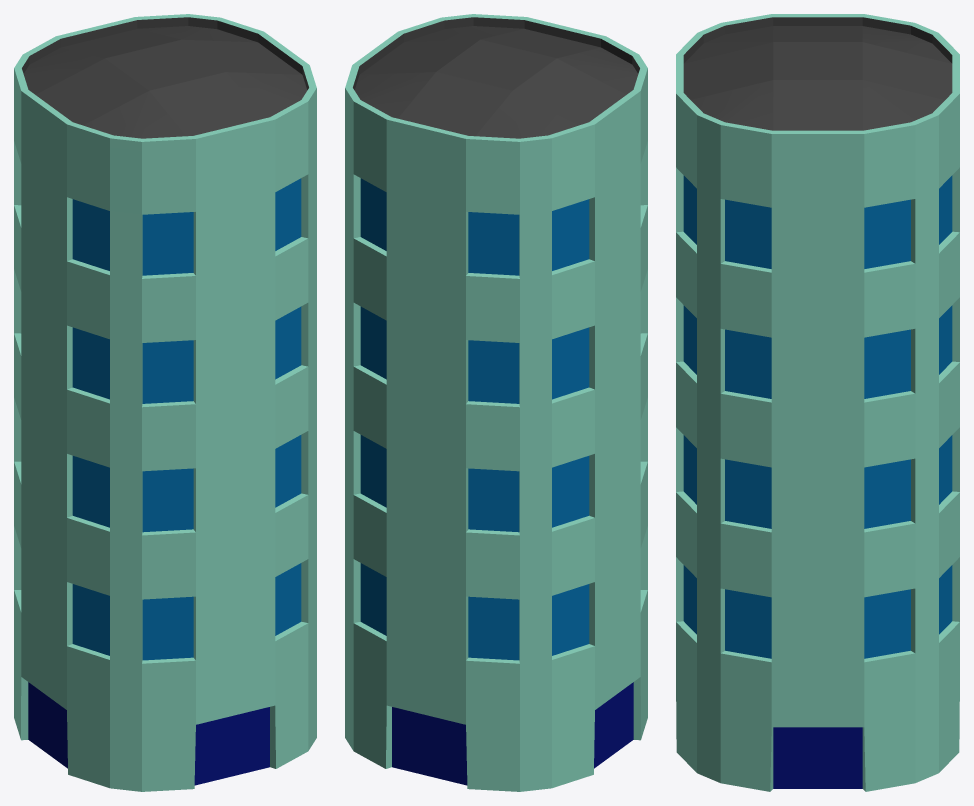
File: House_4.fbx
3 views of the same model, side by side, from view 1: azimuth 30°, elevation 25°; view 2: azimuth 150°, elevation 25°; view 3: azimuth 270°, elevation 25° (orthographic).
Parts seen in each view (by area): view 1: House_4; view 2: House_4; view 3: House_4.
Part boxes in pixels (x1,y1,x2,y2): House_4: (14,14,316,791); House_4: (345,14,647,791); House_4: (676,14,959,791).
Bounding box in the file's own units: 0.317 × 0.8268 × 0.317.
